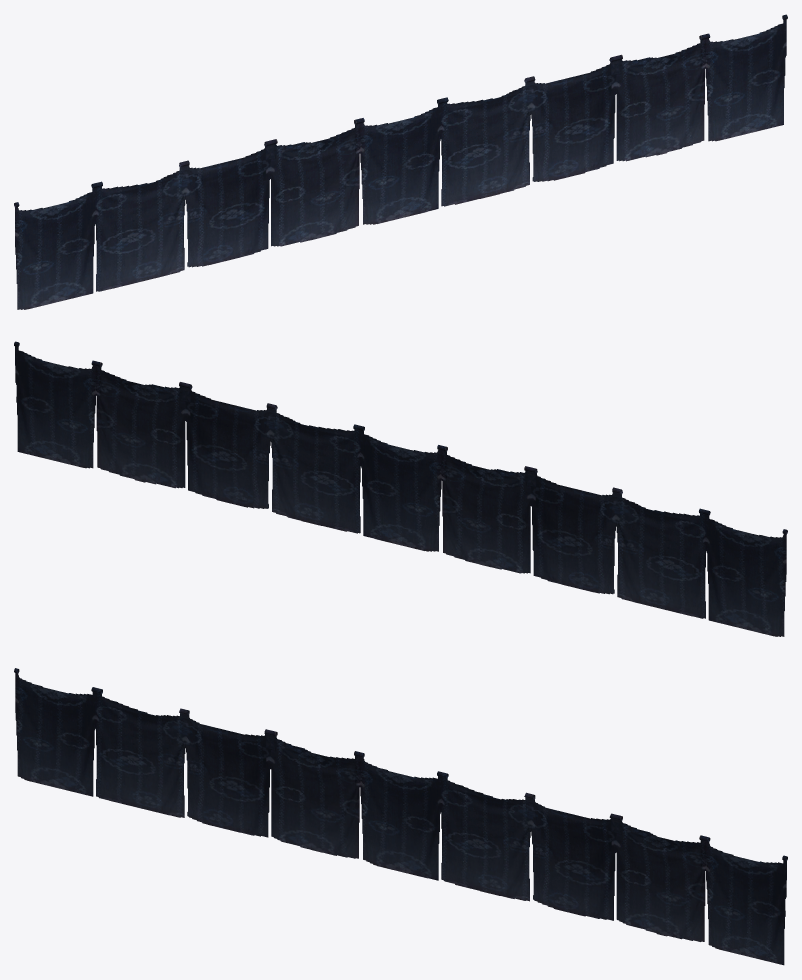
File: Wall12_02.fbx
3 views of the same model, one above another, from view 1: azimuth 30°, elevation 25°; view 2: azimuth 150°, elevation 25°; view 3: azimuth 330°, elevation 25° (orthographic).
Parts seen in each view (by area): view 1: Wall12_02; view 2: Wall12_02; view 3: Wall12_02.
Boxes of the visible parts, x1,y1,x2,y2 form: Wall12_02: (14,14,787,309); Wall12_02: (14,341,787,636); Wall12_02: (14,668,787,965).
Size of the model in its own units: 515 by 70 by 2.66.
